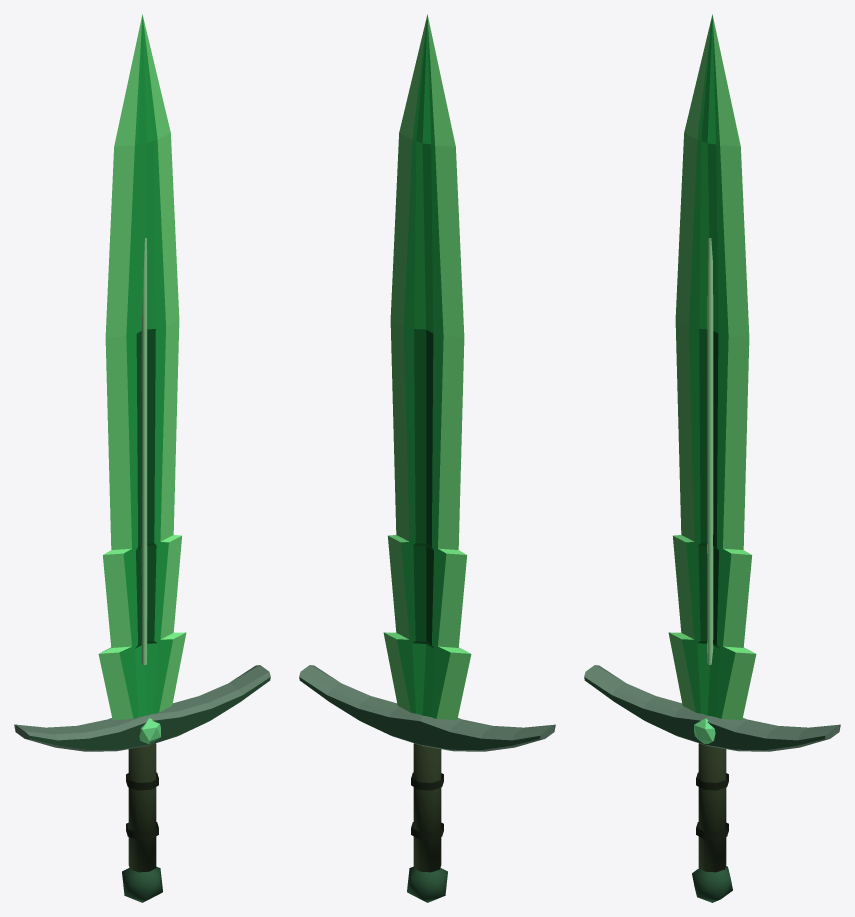
The model's file is terra_blade.glb.
3 views of the same model, side by side, from view 1: azimuth 30°, elevation 25°; view 2: azimuth 150°, elevation 25°; view 3: azimuth 330°, elevation 25° (orthographic).
Visible parts, largest first — view 1: terra_blade_v0; view 2: terra_blade_v0; view 3: terra_blade_v0.
Boxes of the visible parts, x1=… form: terra_blade_v0: x1=14, y1=14, x2=270, y2=902; terra_blade_v0: x1=299, y1=14, x2=555, y2=902; terra_blade_v0: x1=584, y1=14, x2=840, y2=902.
Size of the model in its own units: 0.414 by 1.44 by 0.0602.
